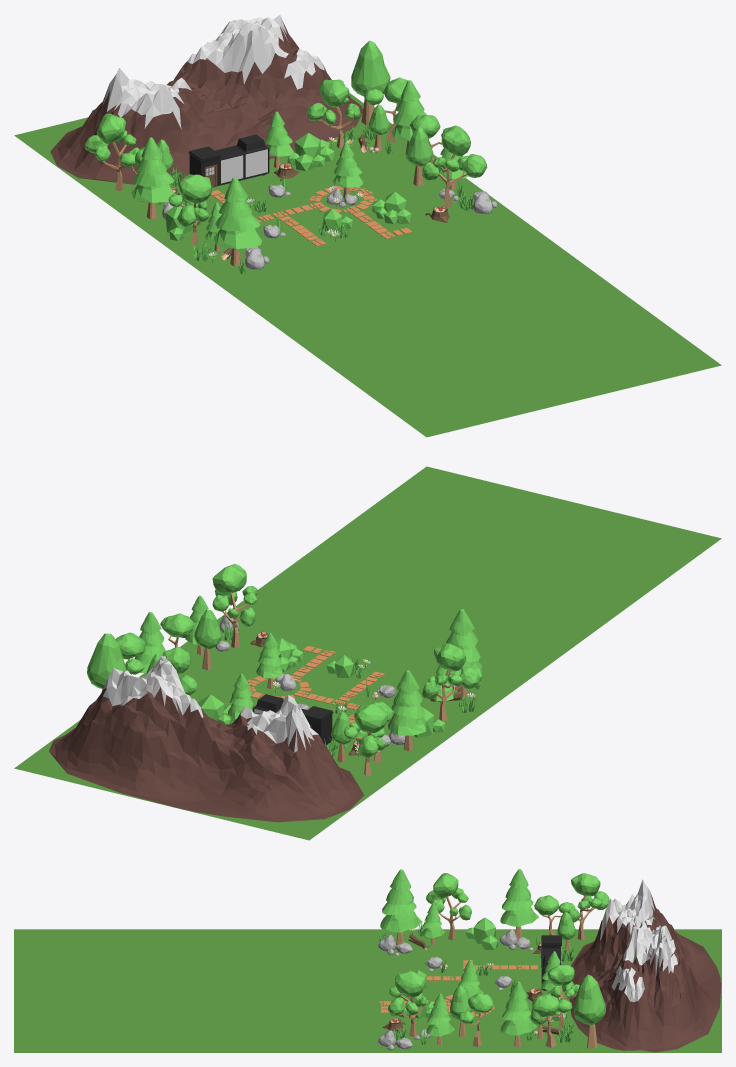
File: Envi2.fbx
3 views of the same model, one above another, from view 1: azimuth 30°, elevation 25°; view 2: azimuth 150°, elevation 25°; view 3: azimuth 270°, elevation 25° (orthographic). The views are drawn at different scales.
Parts seen in each view (by area): view 1: Plane, Mountain, Cabin, Pine.005, Plane.002, Pathway, Pine.001, Trunk.001, Plane.005, Plane.001, Plane.003, Pine (+4 smaller); view 2: Plane, Mountain, Plane.002, Plane.005, Pine.001, Pathway, Plane.001, Trunk.001, Pine.005, Cabin, Pine, Trunk.003 (+5 smaller); view 3: Plane, Mountain, Pine.005, Plane.002, Pine.001, Trunk.001, Plane.005, Plane.001, Pine, Plane.003, Tree 01, Pine.004 (+10 smaller).
Part boxes in pixels (<box>): Plane: <box>14,93,721,437</box>; Mountain: <box>50,15,362,184</box>; Cabin: <box>188,134,269,187</box>; Pine.005: <box>213,177,261,266</box>; Plane.002: <box>422,125,487,206</box>; Pathway: <box>211,186,412,246</box>; Pine.001: <box>131,137,174,219</box>; Trunk.001: <box>351,40,390,125</box>; Plane.005: <box>168,174,211,246</box>; Plane.001: <box>84,113,139,190</box>; Plane.003: <box>306,79,360,148</box>; Pine: <box>391,80,431,154</box>; Plane: <box>14,466,721,840</box>; Mountain: <box>49,656,364,822</box>; Plane.002: <box>212,564,257,648</box>; Plane.005: <box>422,643,479,720</box>; Pine.001: <box>388,670,426,751</box>; Pathway: <box>247,646,384,723</box>; Plane.001: <box>343,704,387,776</box>; Trunk.001: <box>87,633,126,690</box>; Pine.005: <box>446,609,481,696</box>; Cabin: <box>252,694,333,745</box>; Pine: <box>134,612,165,672</box>; Trunk.003: <box>194,610,221,670</box>; Plane: <box>14,929,721,1052</box>; Mountain: <box>569,879,721,1052</box>; Pine.005: <box>380,869,422,944</box>; Plane.002: <box>388,970,426,1036</box>; Pine.001: <box>500,869,538,938</box>; Trunk.001: <box>573,974,605,1048</box>; Plane.005: <box>426,873,471,940</box>; Plane.001: <box>568,873,609,940</box>; Pine: <box>500,981,536,1046</box>; Plane.003: <box>547,965,579,1027</box>; Tree 01: <box>532,994,572,1047</box>; Pine.004: <box>426,993,454,1044</box>.
Size of the model in its own units: 4992 by 1644 by 11931.
